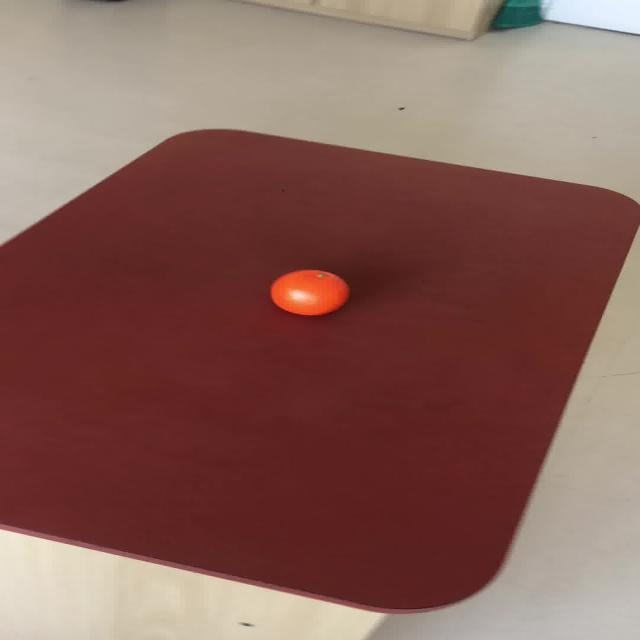orange: (268, 269, 349, 316)
